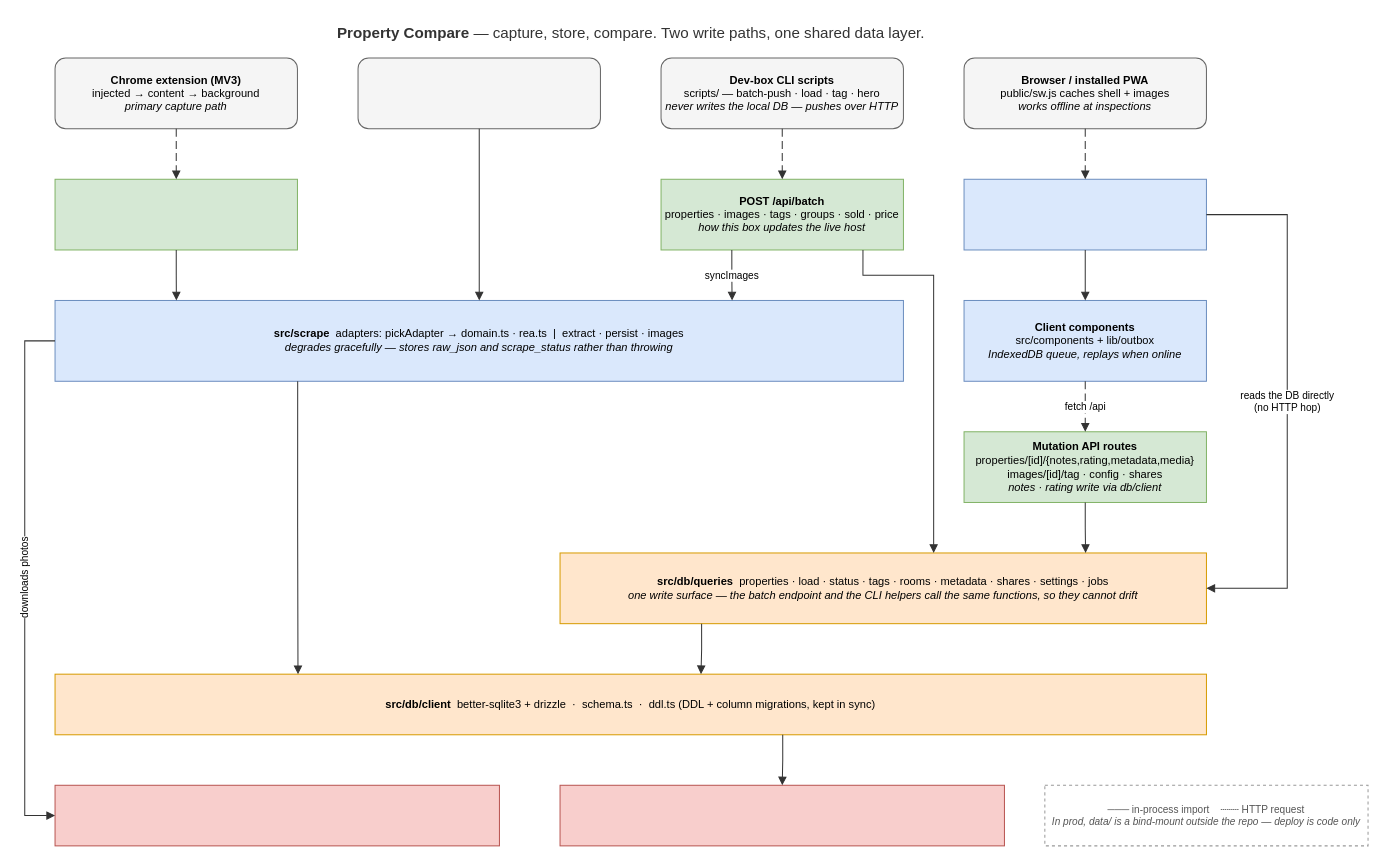
Some shapes in this 1386 by 864 pixel diagram are drawn without their labels. Here are the shapes that lost their labels. From the top down, the box of each, then its label:
(357, 57, 600, 129): Playwright CLI npm run scrape one-off URL scrapes
(54, 178, 297, 250): POST /api/ingest accepts the page's embedded data no auth — LAN only
(963, 178, 1206, 250): Server pages (RSC) src/app/**/page.tsx rendered per request
(54, 784, 499, 846): data/images files on disk · served by GET /api/img · /api/media
(559, 784, 1004, 846): data/app.db SQLite
